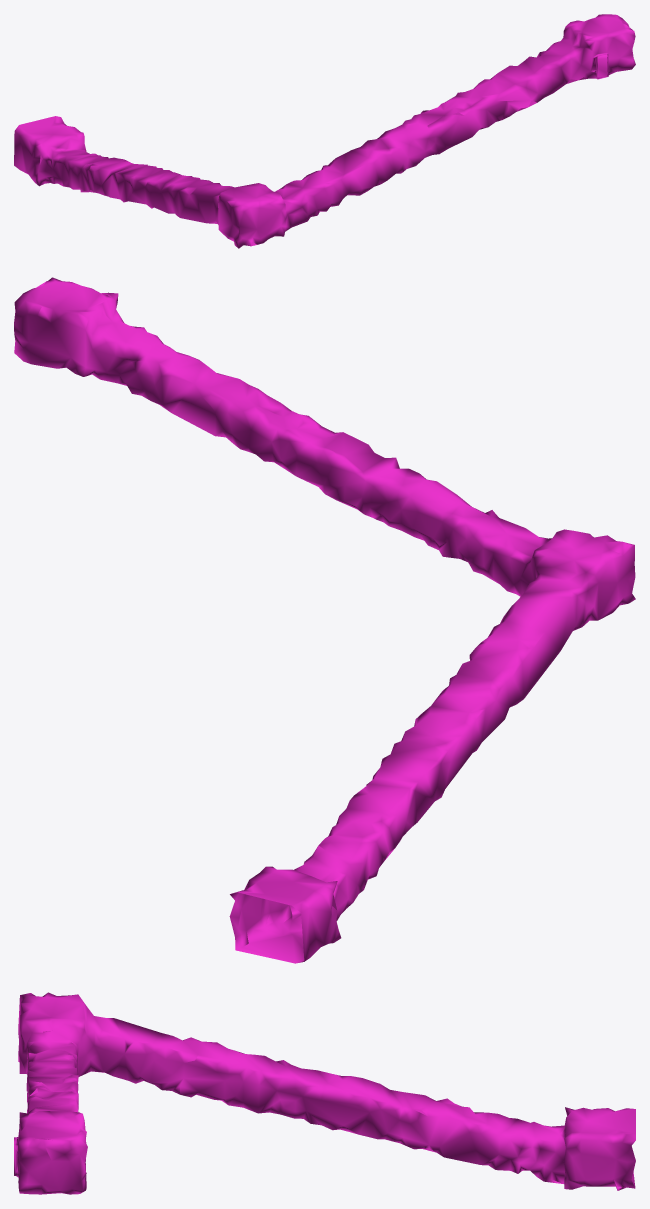
The model's file is StairsNurseryAndSanctuaryMesh.gltf.
3 renders of one model, top to bottom at view 1: azimuth 30°, elevation 25°; view 2: azimuth 150°, elevation 25°; view 3: azimuth 270°, elevation 25°, orthographic. The views are drawn at different scales.
Parts seen in each view (by area): view 1: StairsNurseryAndSanctuaryMesh2; view 2: StairsNurseryAndSanctuaryMesh2; view 3: StairsNurseryAndSanctuaryMesh2.
Part boxes in pixels (x1,y1,x2,y2): StairsNurseryAndSanctuaryMesh2: (14,14,635,248); StairsNurseryAndSanctuaryMesh2: (14,277,635,963); StairsNurseryAndSanctuaryMesh2: (14,992,635,1194).
Bounding box in the file's own units: 72.78 × 36.03 × 72.01.
